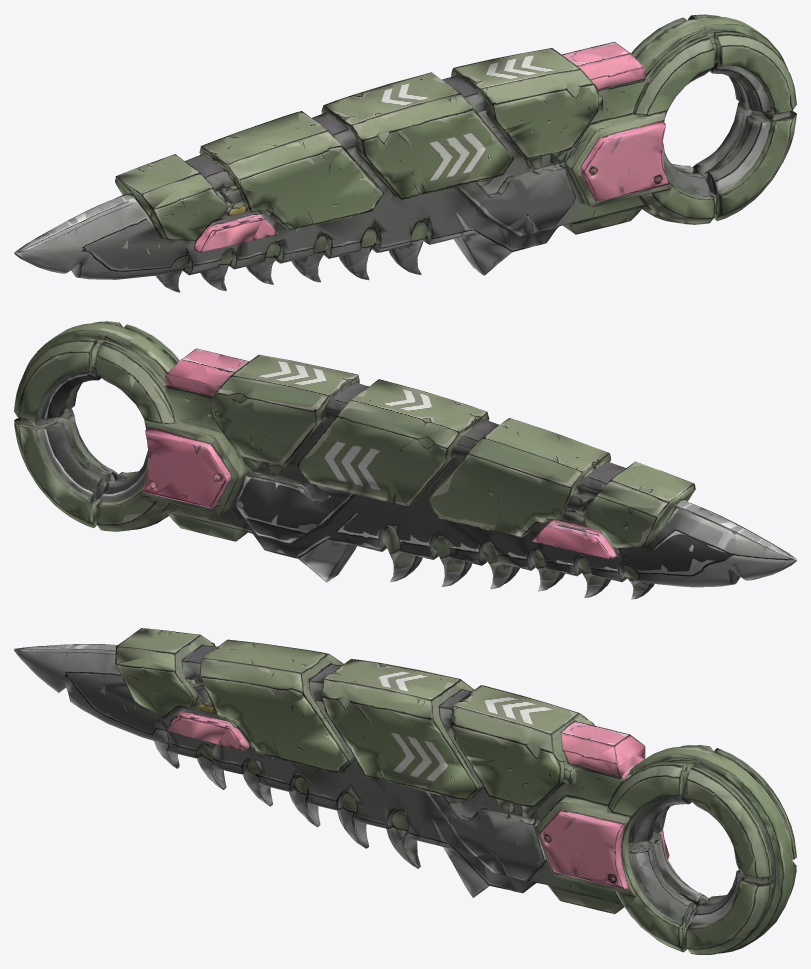
File: m-mantis-blade.glb
The picture shows the model from 3 angles, top to bottom: view 1: azimuth 30°, elevation 25°; view 2: azimuth 150°, elevation 25°; view 3: azimuth 330°, elevation 25°; orthographic projection.
Bounding box in the file's own units: 1.9 × 0.461 × 0.2007.
1 material, 1 textured.
